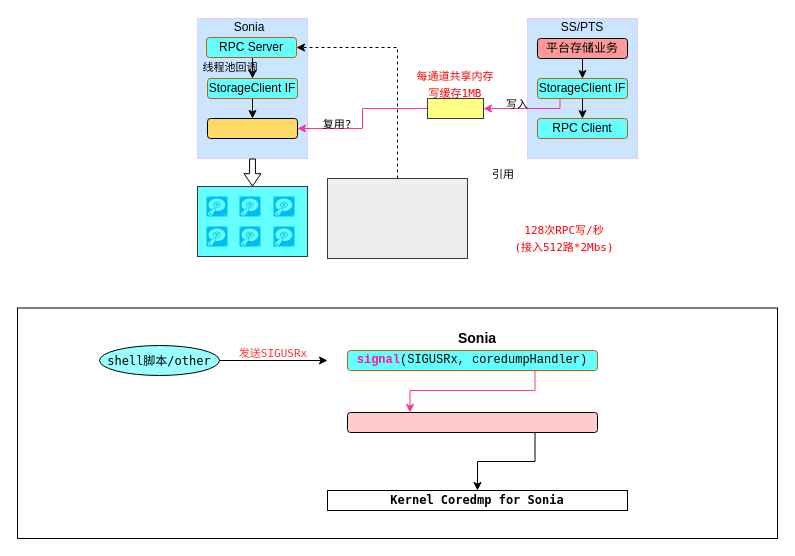
The diagram is 795 pixels wide and 556 high, and some of its shapes have lost their labels. The shapes that lost their labels are listed below. From the top down, each one's box as (x1, y1, x2, y2) in pixels, then its label:
(206, 118, 298, 138): 存储SDK
(426, 98, 484, 118): Frame buf
(326, 178, 468, 258): RPCMsg: WriteFrame(...) field1 = StreamID field2 = Frame buf field3 = ...
(346, 412, 598, 432): fork()----->子进程----->abort()
